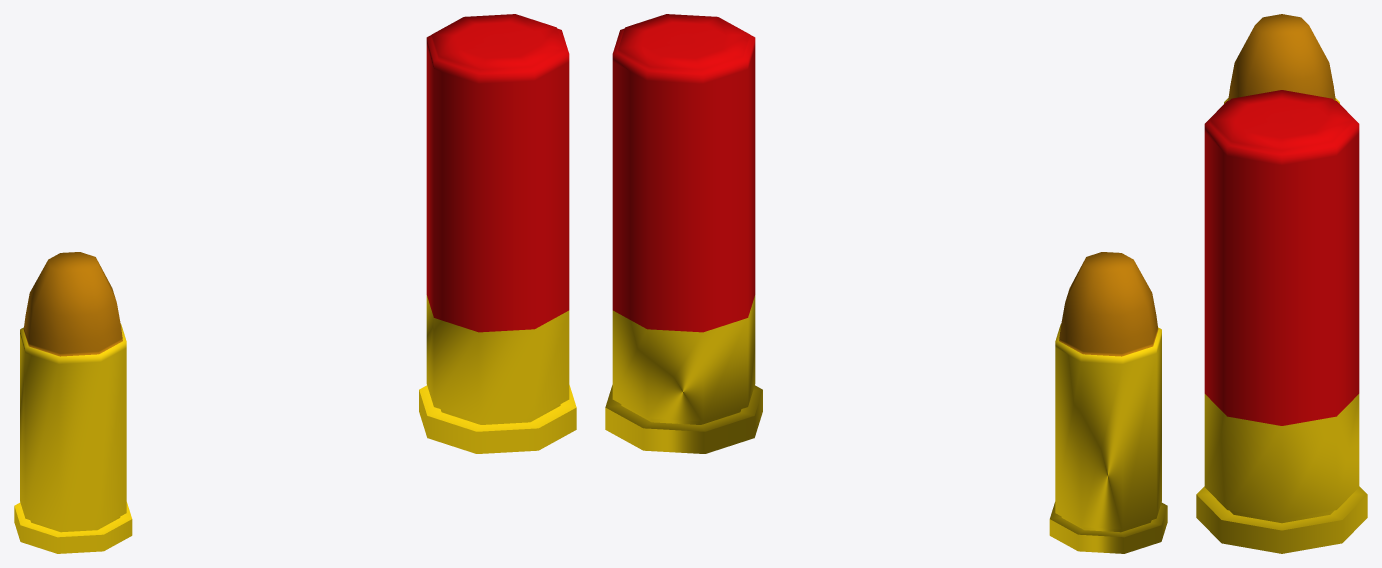
File: Municao.fbx
3 renders of one model, left to right at view 1: azimuth 30°, elevation 25°; view 2: azimuth 150°, elevation 25°; view 3: azimuth 270°, elevation 25°, orthographic. The views are drawn at different scales.
Parts seen in each view (by area): view 1: Shotgun shell, Revolver; view 2: Shotgun shell, Revolver; view 3: Shotgun shell, Revolver.
Boxes of the visible parts, x1,y1,x2,y2 form: Shotgun shell: (419,14,576,453); Revolver: (14,252,132,553); Shotgun shell: (605,14,762,453); Revolver: (1049,252,1167,553); Shotgun shell: (1196,90,1367,553); Revolver: (1224,14,1339,103).
Bounding box in the file's own units: 228 × 153 × 58.86.
